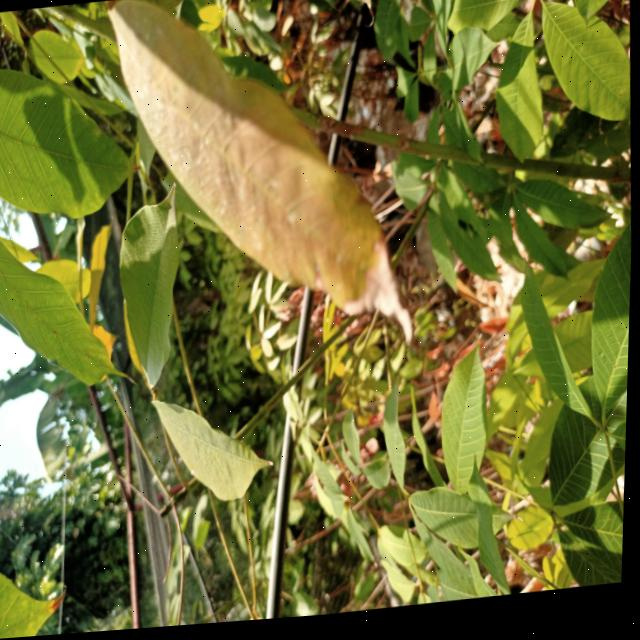Leaf-Blight: (344, 239, 417, 354)
